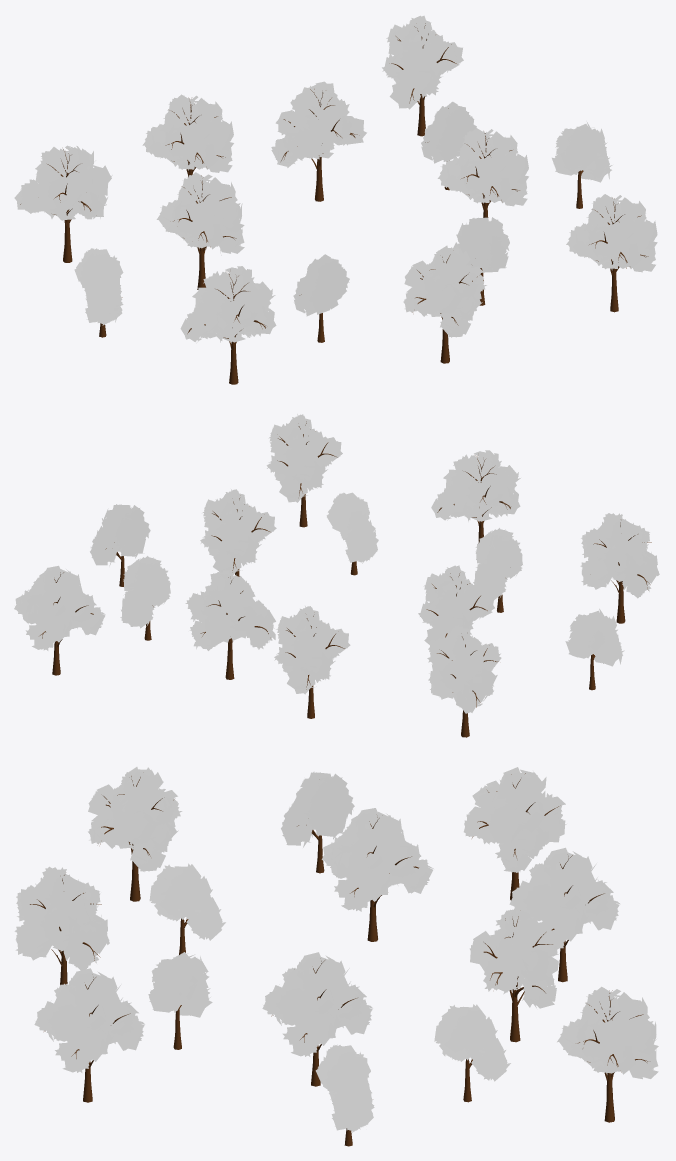
The model's file is tree2.glb.
3 renders of one model, top to bottom at view 1: azimuth 30°, elevation 25°; view 2: azimuth 150°, elevation 25°; view 3: azimuth 270°, elevation 25°, orthographic. The views are drawn at different scales.
Visible parts, largest first — view 1: leaves, leaves2, tree; view 2: leaves, leaves2, tree; view 3: leaves, leaves2, tree.
Part boxes in pixels (x1,y1,x2,y2): leaves: (14, 15, 657, 343); leaves2: (74, 101, 612, 325); tree: (20, 23, 648, 384); leaves: (14, 414, 659, 713); leaves2: (90, 492, 624, 666); tree: (40, 421, 651, 737); leaves: (14, 767, 658, 1079); leaves2: (148, 771, 510, 1132); tree: (30, 773, 647, 1146).
Bounding box in the file's own units: 152 × 30.69 × 136.
